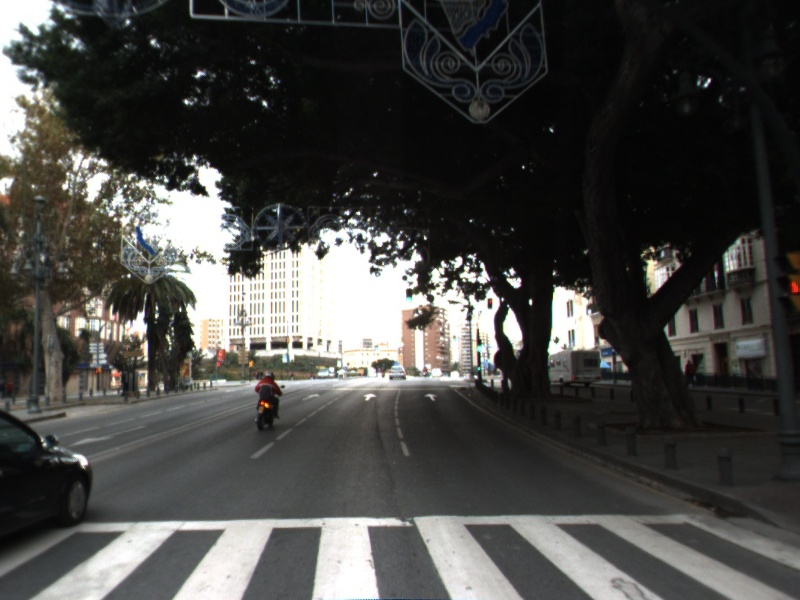STRAIGHT: (299, 391, 322, 403), (360, 391, 379, 403), (422, 391, 441, 403)
